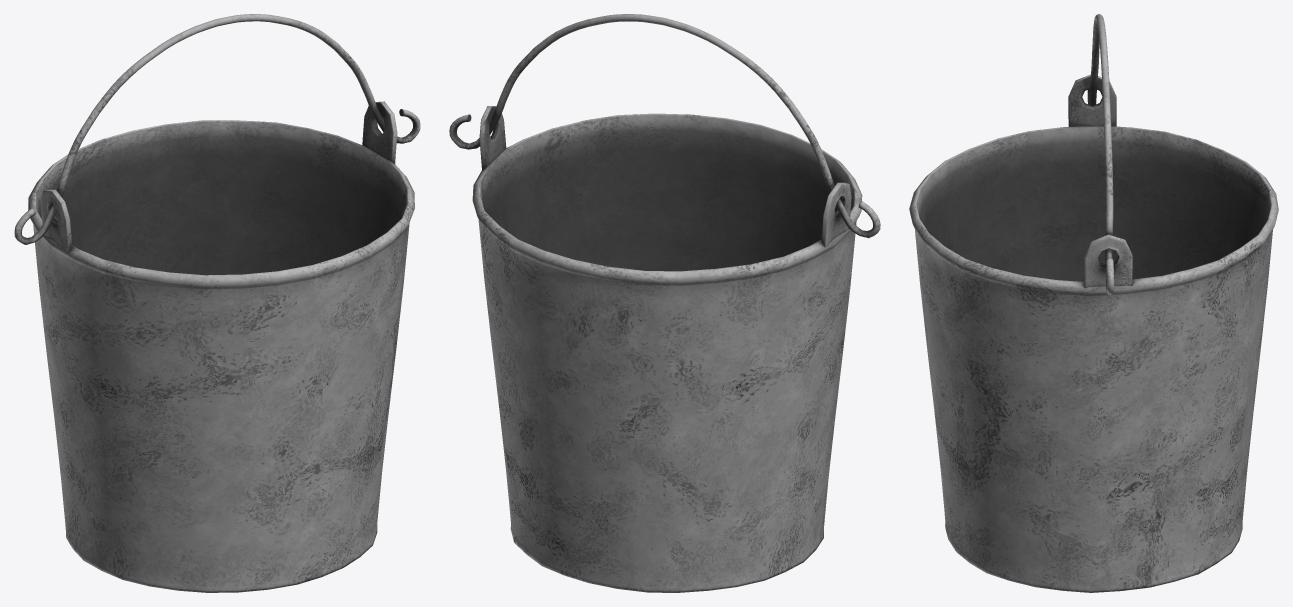
Rendered from bucket.fbx.
The picture shows the model from 3 angles, left to right: view 1: azimuth 30°, elevation 25°; view 2: azimuth 150°, elevation 25°; view 3: azimuth 270°, elevation 25°; orthographic projection. The views are drawn at different scales.
Visible parts, largest first — view 1: bucket; view 2: bucket; view 3: bucket.
Boxes of the visible parts, x1,y1,x2,y2 form: bucket: [14, 14, 420, 592]; bucket: [449, 14, 880, 592]; bucket: [909, 14, 1278, 592].
Bounding box in the file's own units: 1410 × 1644 × 1112.
Materials: 1 (1 with a texture image).
